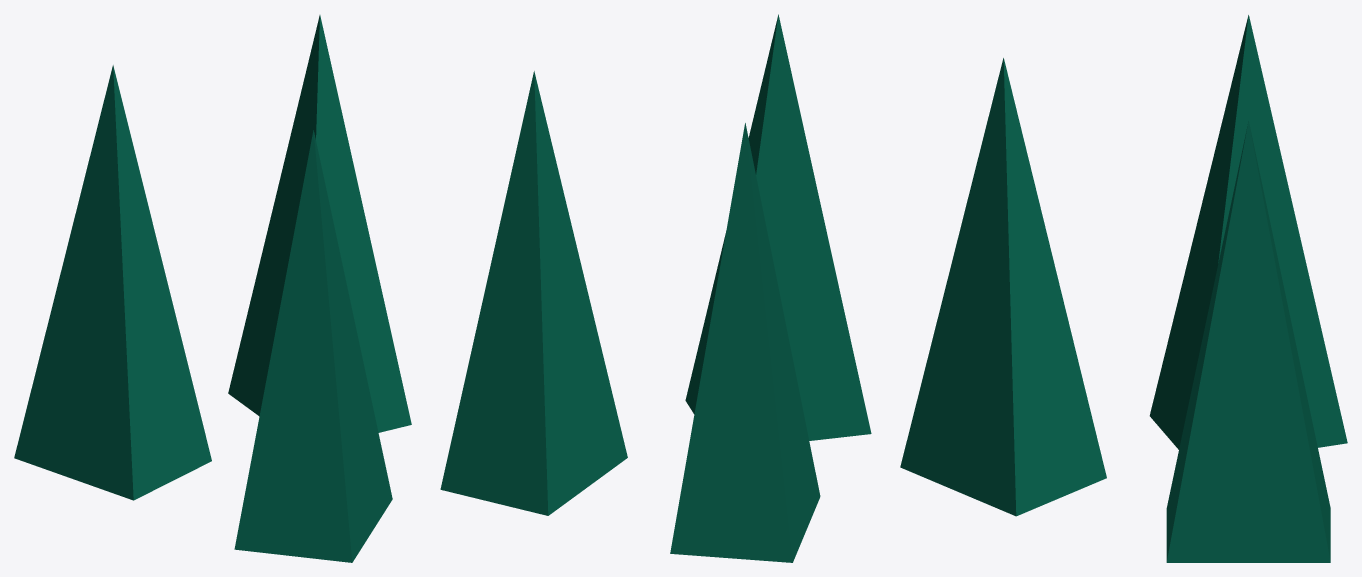
Rendered from sapin.FBX.
3 renders of one model, left to right at view 1: azimuth 30°, elevation 25°; view 2: azimuth 150°, elevation 25°; view 3: azimuth 270°, elevation 25°, orthographic. The views are drawn at different scales.
Visible parts, largest first — view 1: Pyramid083, Pyramid067, Pyramid066; view 2: Pyramid066, Pyramid083, Pyramid067; view 3: Pyramid067, Pyramid066, Pyramid083.
Boxes of the visible parts, x1,y1,x2,y2 form: Pyramid083: [14, 65, 211, 500]; Pyramid067: [234, 130, 392, 562]; Pyramid066: [228, 15, 411, 432]; Pyramid066: [440, 71, 627, 515]; Pyramid083: [670, 123, 820, 562]; Pyramid067: [685, 14, 871, 440]; Pyramid067: [900, 58, 1106, 516]; Pyramid066: [1166, 121, 1330, 562]; Pyramid083: [1149, 15, 1347, 449].
Bounding box in the file's own units: 141 × 160 × 156.
